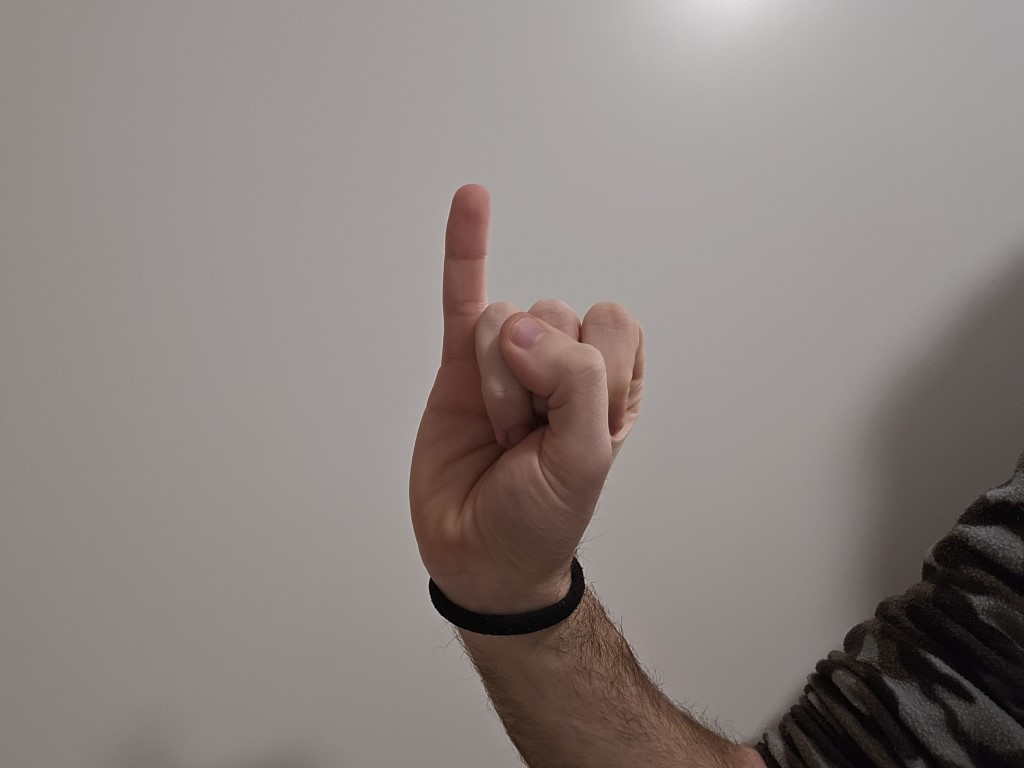i: (405, 170, 655, 583)
